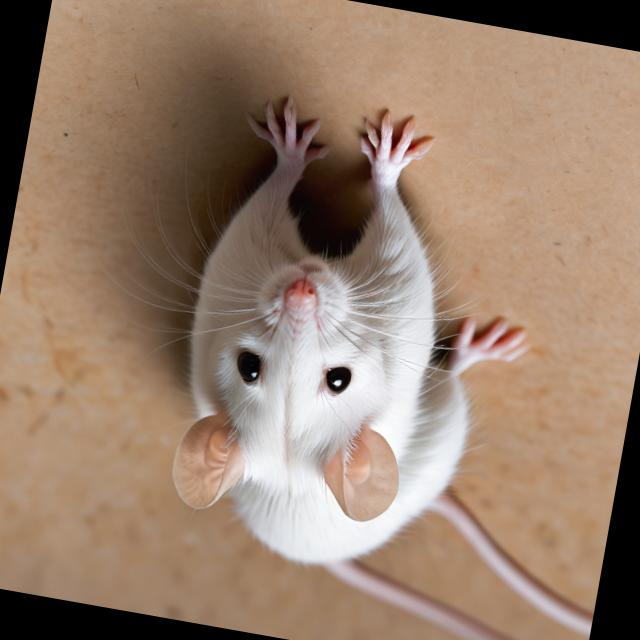rodent: (131, 118, 527, 608)
